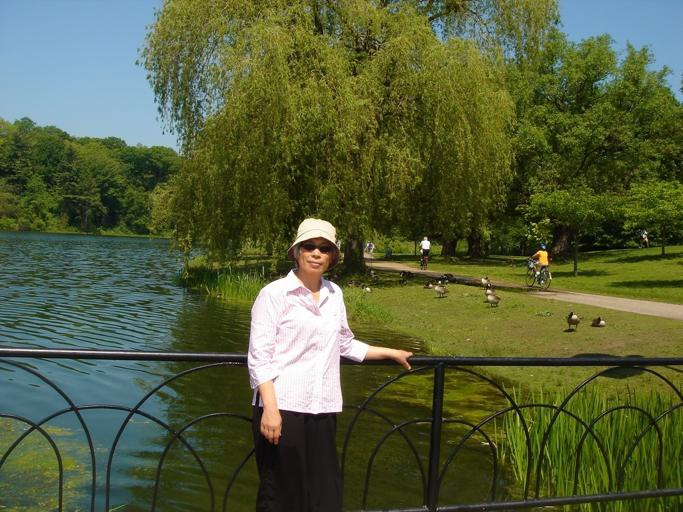non-vehicle: (524, 257, 553, 293), (418, 248, 430, 271)
